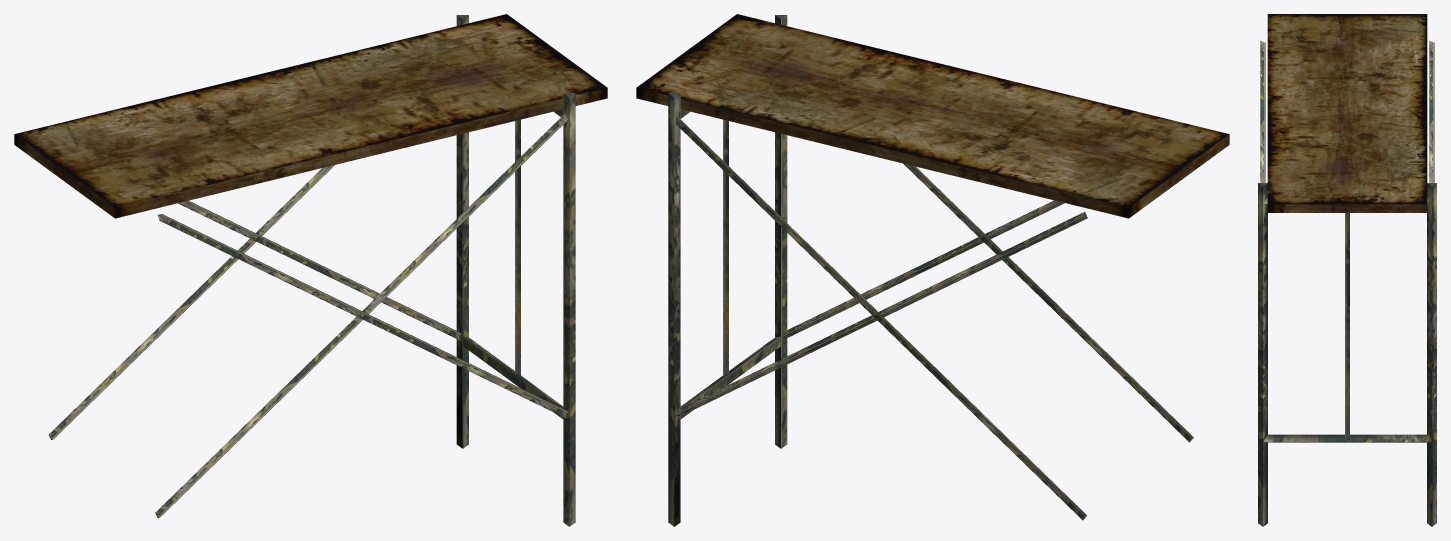
File: sidescaff_top.fbx
The picture shows the model from 3 angles, left to right: view 1: azimuth 30°, elevation 25°; view 2: azimuth 150°, elevation 25°; view 3: azimuth 270°, elevation 25°; orthographic projection. The views are drawn at different scales.
Parts seen in each view (by area): view 1: mesh_0; view 2: mesh_0; view 3: mesh_0.
Boxes of the visible parts, <box> form: mesh_0: <box>14,14,607,526</box>; mesh_0: <box>636,14,1229,526</box>; mesh_0: <box>1258,14,1436,526</box>.
Bounding box in the file's own units: 480 × 400 × 190.
Materials: 1 (1 with a texture image).
